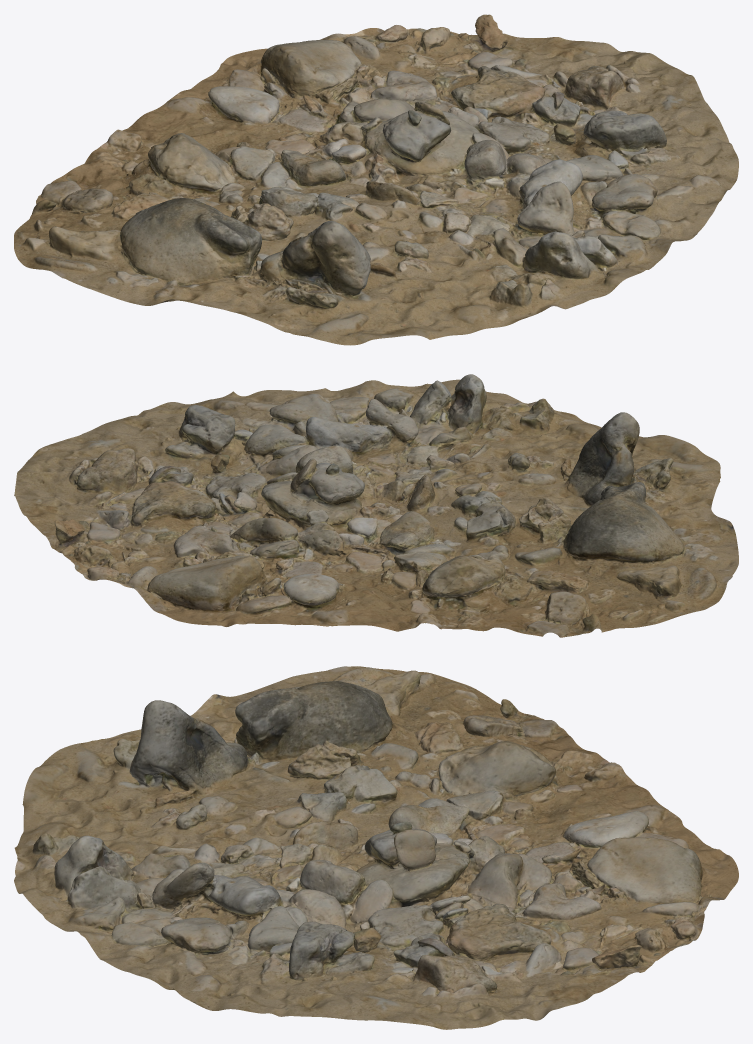
The model's file is sand_rocks_small_01.glb.
3 renders of one model, top to bottom at view 1: azimuth 30°, elevation 25°; view 2: azimuth 150°, elevation 25°; view 3: azimuth 270°, elevation 25°, orthographic. The views are drawn at different scales.
Parts seen in each view (by area): view 1: sand_rocks_small_01_LOD0; view 2: sand_rocks_small_01_LOD0; view 3: sand_rocks_small_01_LOD0.
Part boxes in pixels (x1,y1,x2,y2): sand_rocks_small_01_LOD0: [14, 14, 738, 345]; sand_rocks_small_01_LOD0: [14, 374, 738, 637]; sand_rocks_small_01_LOD0: [14, 666, 738, 1029].
Size of the model in its own units: 4.63 by 0.5349 by 3.88.
1 material, 1 textured.
